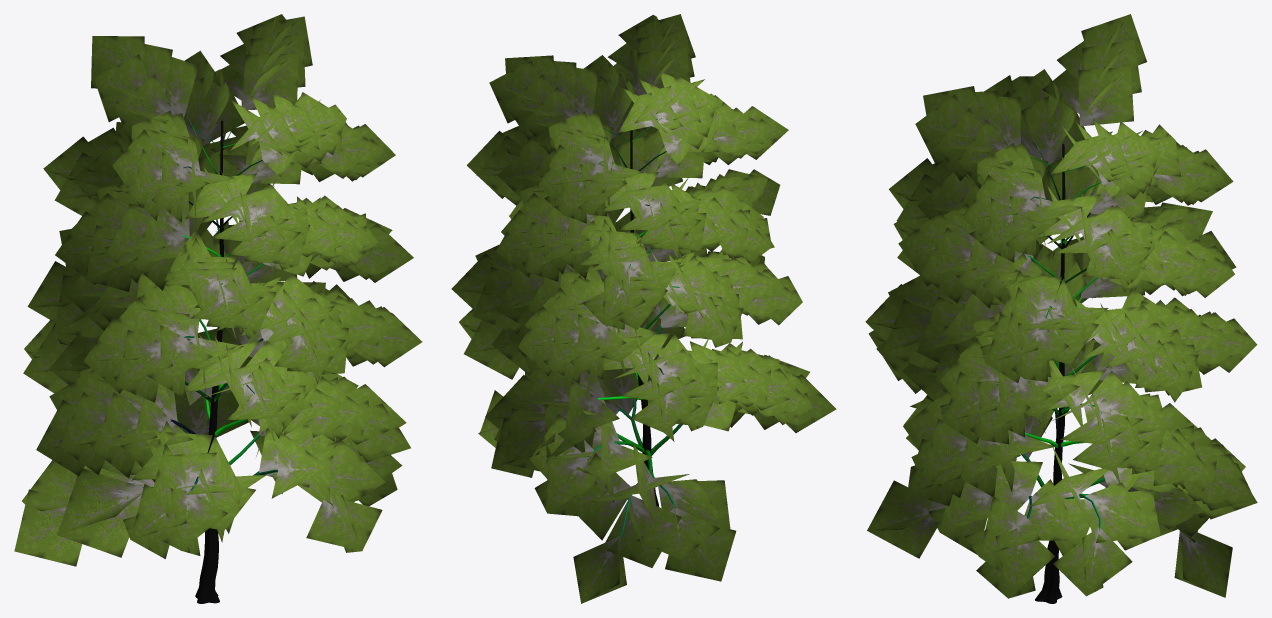
Rendered from BeechTree03.fbx.
3 renders of one model, left to right at view 1: azimuth 30°, elevation 25°; view 2: azimuth 150°, elevation 25°; view 3: azimuth 270°, elevation 25°, orthographic. The views are drawn at different scales.
Visible parts, largest first — view 1: Tree_1, Tree_0; view 2: Tree_1, Tree_0; view 3: Tree_1, Tree_0.
Part boxes in pixels (x1=…): Tree_1: x1=14, y1=14, x2=422, y2=566; Tree_0: x1=142, y1=113, x2=277, y2=603; Tree_1: x1=451, y1=14, x2=836, y2=603; Tree_0: x1=584, y1=118, x2=682, y2=537; Tree_1: x1=865, y1=14, x2=1257, y2=598; Tree_0: x1=1021, y1=128, x2=1127, y2=603.
Bounding box in the file's own units: 92.01 × 136 × 87.81.
